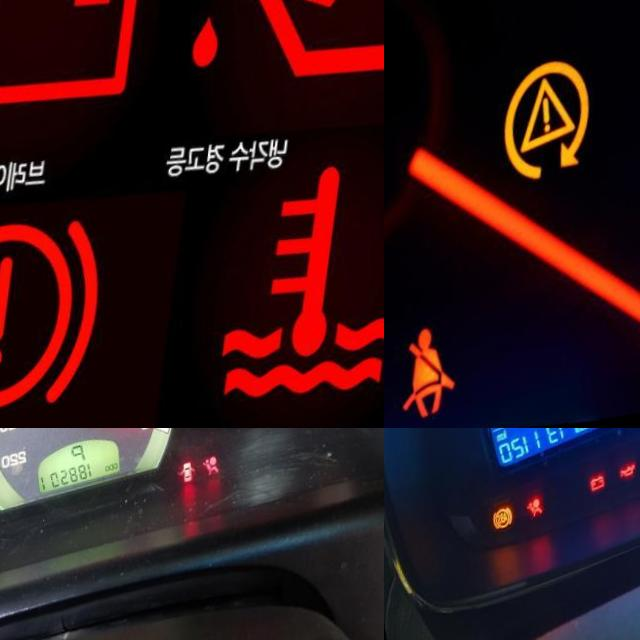Doors: (183, 474, 199, 497)
Engine cooling system: (218, 161, 384, 428)
